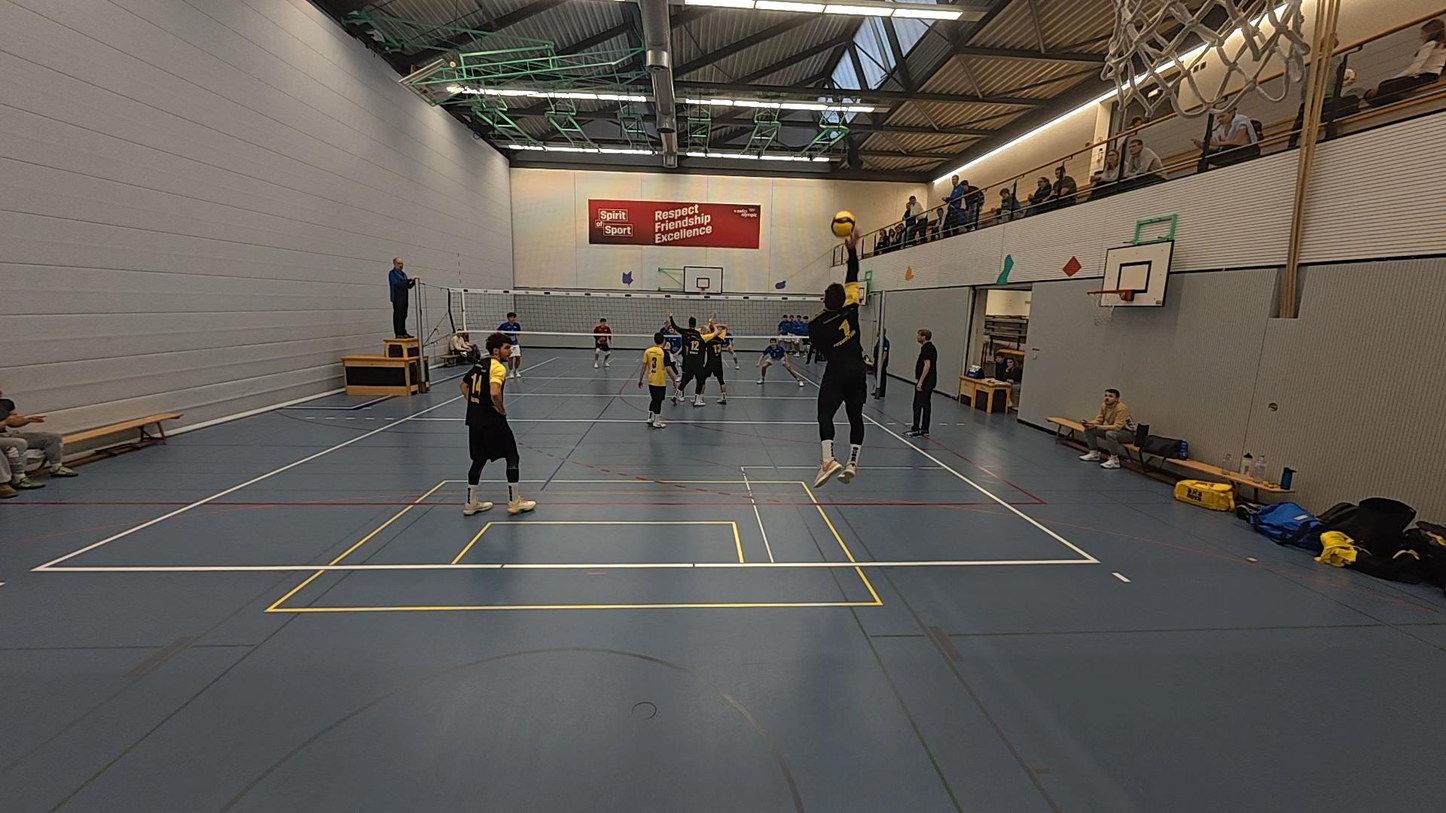battuta: (798, 229, 875, 489)
